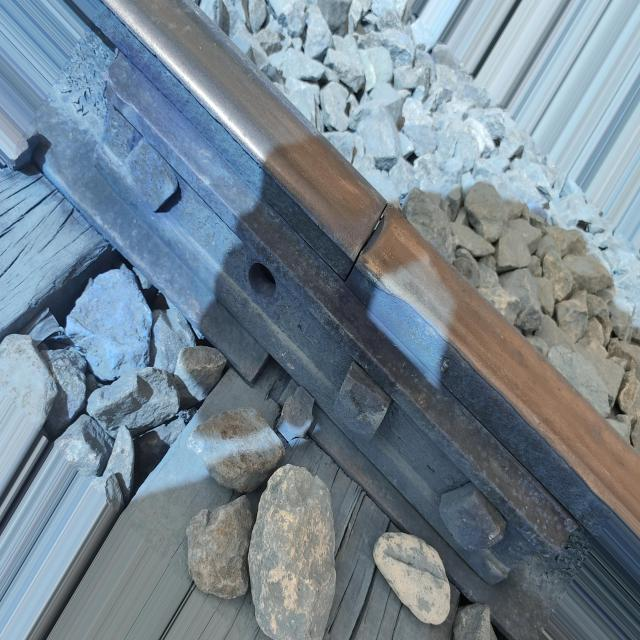Defective Joint: (87, 55, 584, 592)
